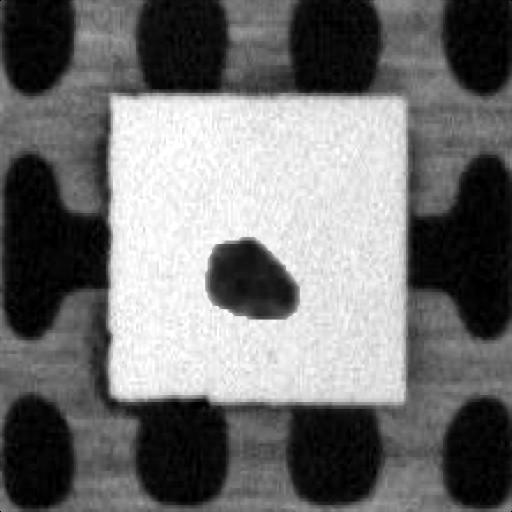DIE_INK: (201, 227, 295, 326)
